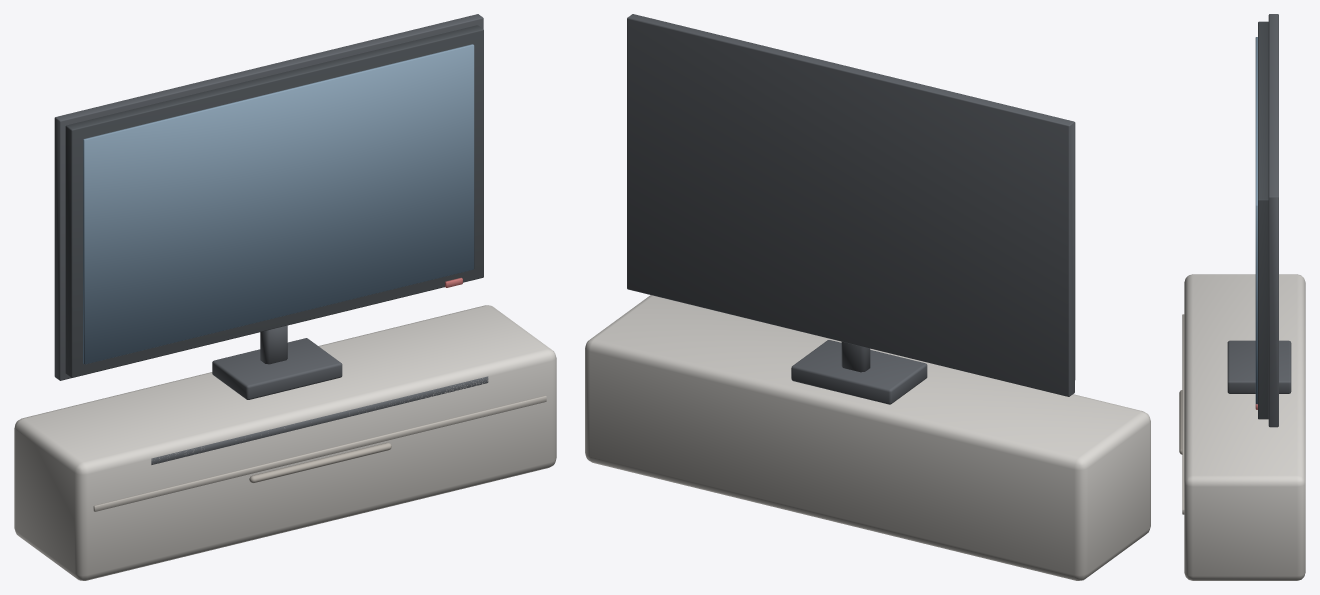
3 views of the same model, side by side, from view 1: azimuth 30°, elevation 25°; view 2: azimuth 150°, elevation 25°; view 3: azimuth 270°, elevation 25° (orthographic). The views are drawn at different scales.
Parts seen in each view (by area): view 1: tv; view 2: tv; view 3: tv.
Part boxes in pixels (bbox=[...]): tv: bbox=[14, 14, 556, 580]; tv: bbox=[585, 14, 1150, 580]; tv: bbox=[1179, 14, 1305, 580].
Bounding box in the file's own units: 1.7 × 1.43 × 0.437.
